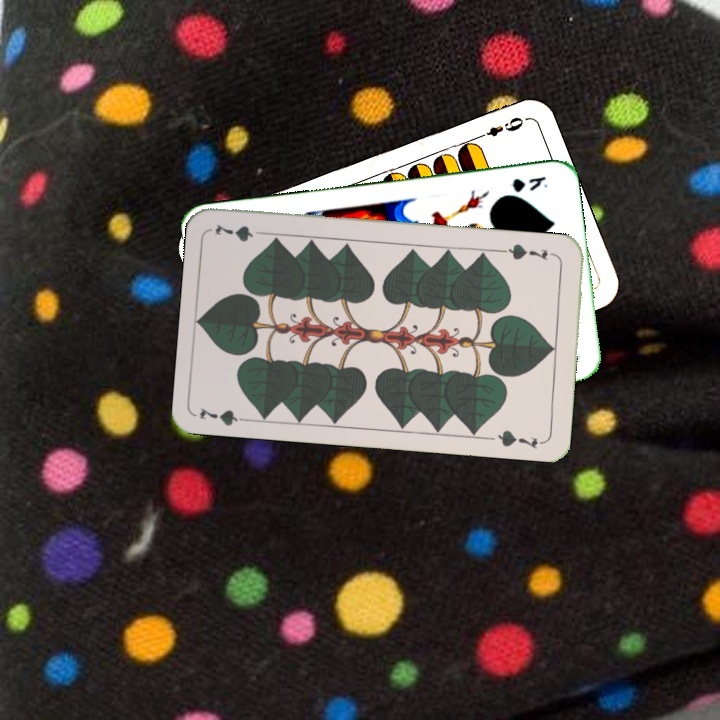E9: (471, 112, 528, 142)
G7: (500, 239, 559, 263), (196, 404, 255, 428)
GK: (505, 172, 551, 195)
